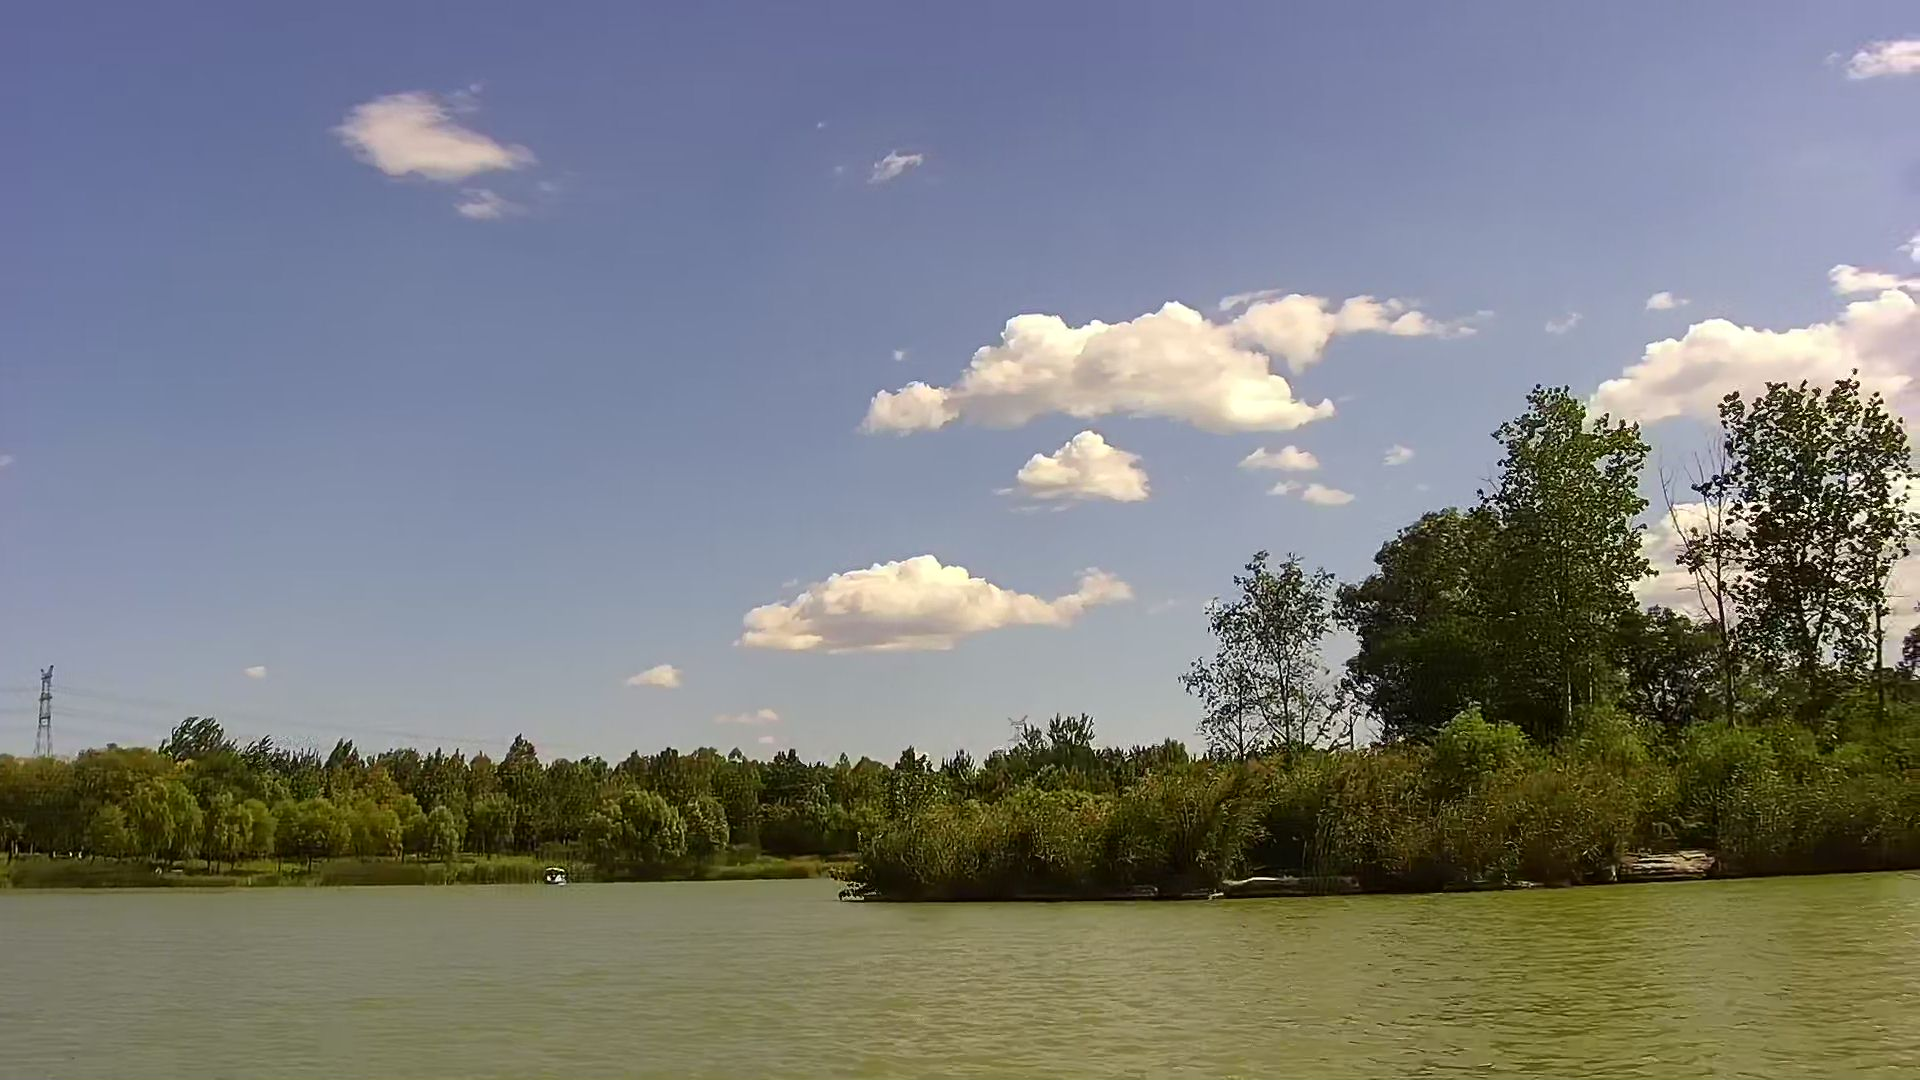boat: (543, 868, 566, 885)
